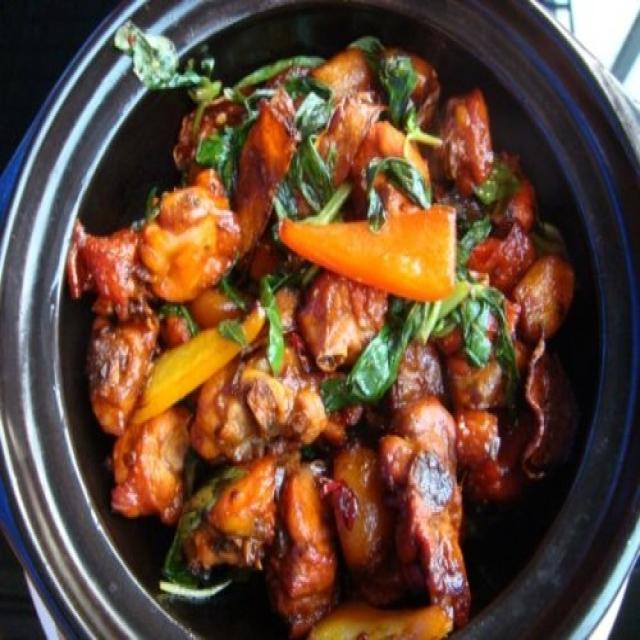鸡肉料理 含炸鸡: (33, 20, 612, 618)
